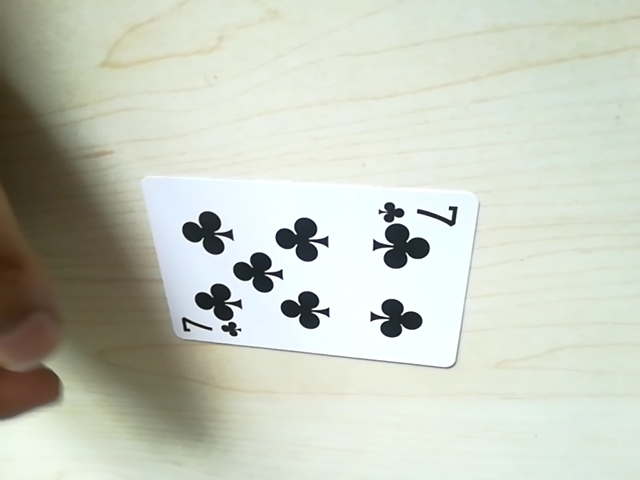mh 7: (386, 196, 458, 224), (175, 313, 237, 344)
